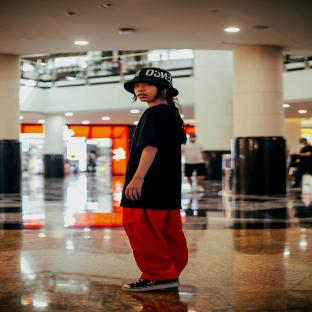Human: (120, 68, 188, 292)
